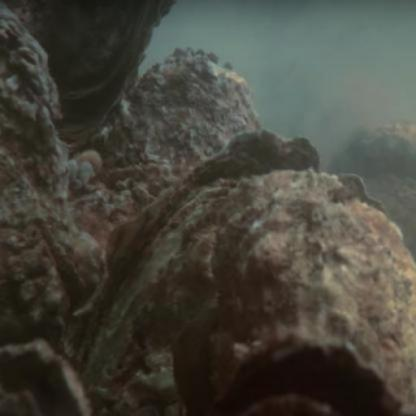Oyster- Indeterminate: (0, 146, 84, 361)
Oyster-Closed: (95, 168, 416, 416), (0, 2, 100, 304), (90, 49, 267, 196), (0, 337, 90, 416)
Oyster-Open: (72, 129, 322, 409), (204, 334, 414, 416)
